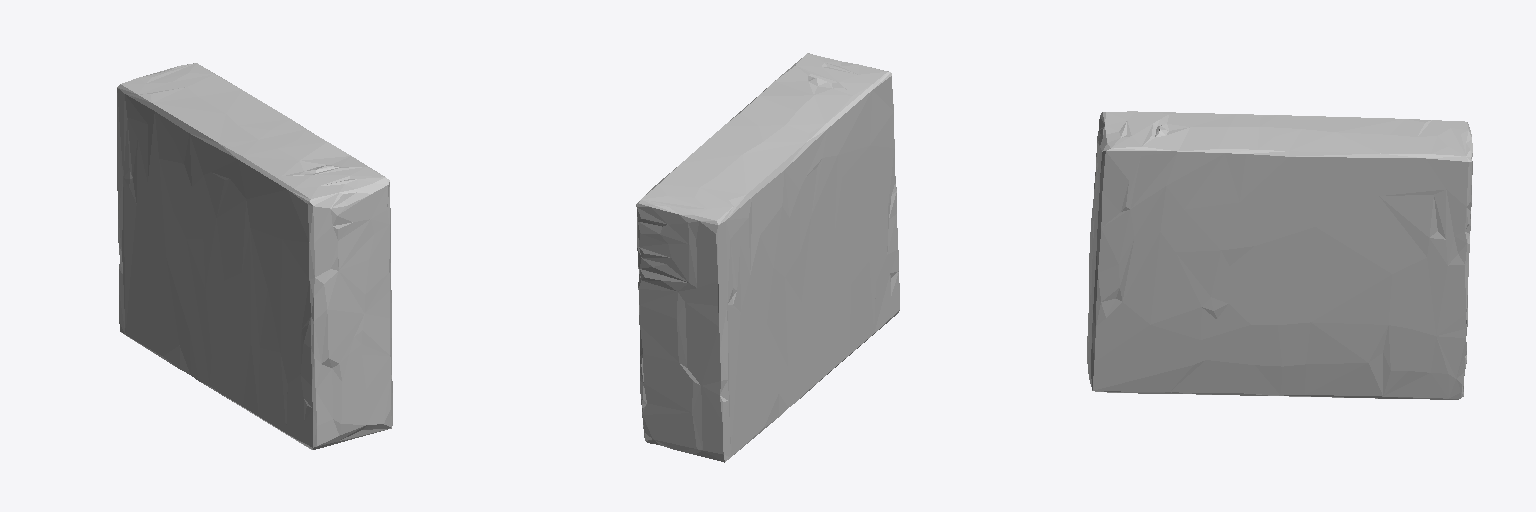
Rendered from rectangularCube2.obj.
3 renders of one model, left to right at view 1: azimuth 30°, elevation 25°; view 2: azimuth 150°, elevation 25°; view 3: azimuth 270°, elevation 25°, orthographic.
Visible parts, largest first — view 1: BroccoliSoup_800_tex; view 2: BroccoliSoup_800_tex; view 3: BroccoliSoup_800_tex.
Boxes of the visible parts, box(x1,y1,x2,y2) form: BroccoliSoup_800_tex: box(117, 63, 392, 449); BroccoliSoup_800_tex: box(636, 53, 899, 462); BroccoliSoup_800_tex: box(1087, 111, 1472, 399).
Size of the model in its own units: 0.0168 by 0.045 by 0.0597.